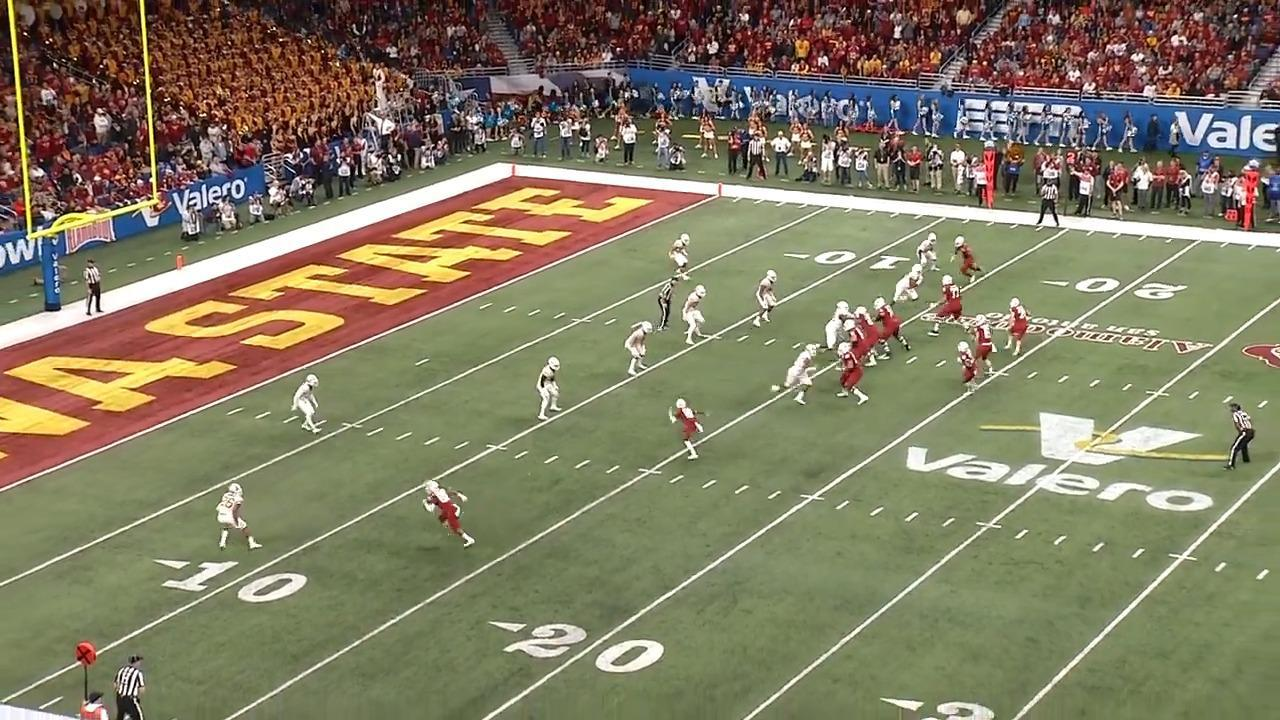defense: (216, 481, 261, 554), (776, 342, 818, 407), (291, 371, 322, 436), (537, 355, 566, 424), (625, 318, 656, 378), (683, 285, 709, 350), (826, 299, 855, 357), (755, 269, 782, 330), (887, 263, 922, 303), (672, 231, 697, 284), (915, 231, 941, 274)
oline: (875, 296, 916, 355), (833, 342, 870, 406), (931, 275, 965, 333), (852, 305, 882, 369), (843, 319, 871, 364)
qb: (969, 311, 997, 377)
ref: (109, 646, 154, 720), (1225, 398, 1261, 476), (80, 256, 108, 321), (654, 276, 680, 335), (1037, 177, 1063, 228)
skill: (418, 479, 475, 550), (669, 396, 711, 463), (956, 339, 984, 400), (1003, 295, 1028, 358), (954, 235, 983, 287)
